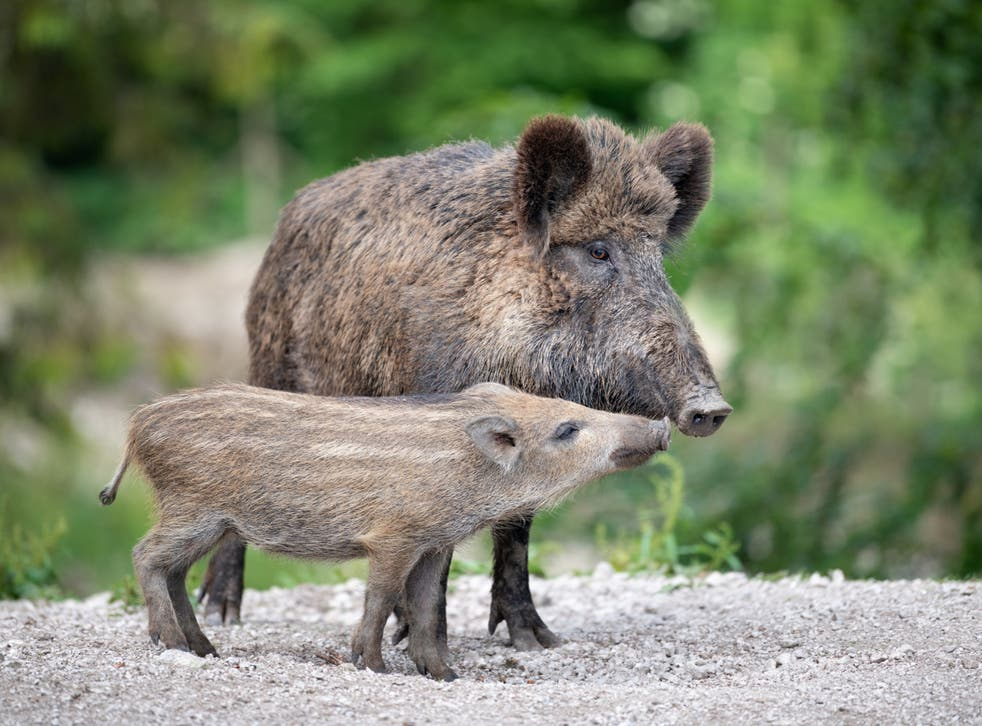boar: (234, 104, 750, 657), (95, 377, 680, 689)
